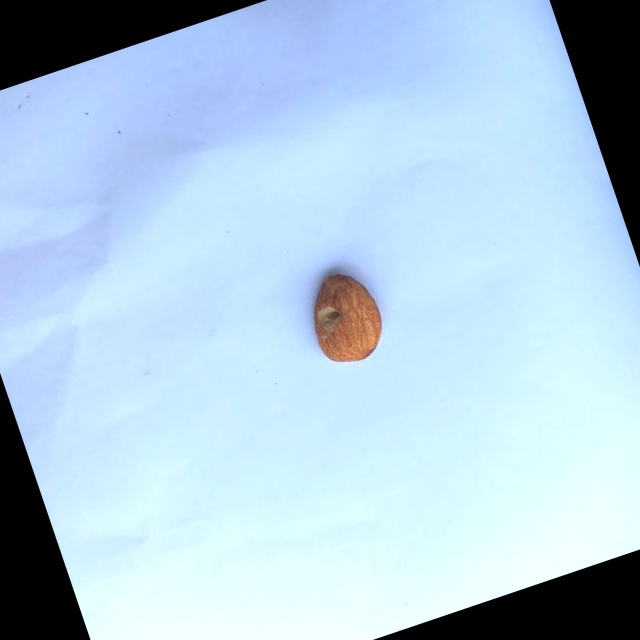grade3: (293, 259, 396, 377)
